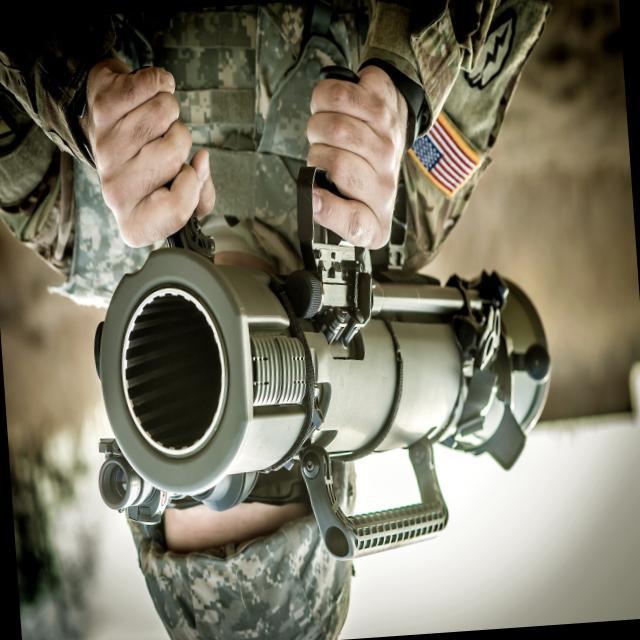Weapon: (76, 157, 561, 566)
